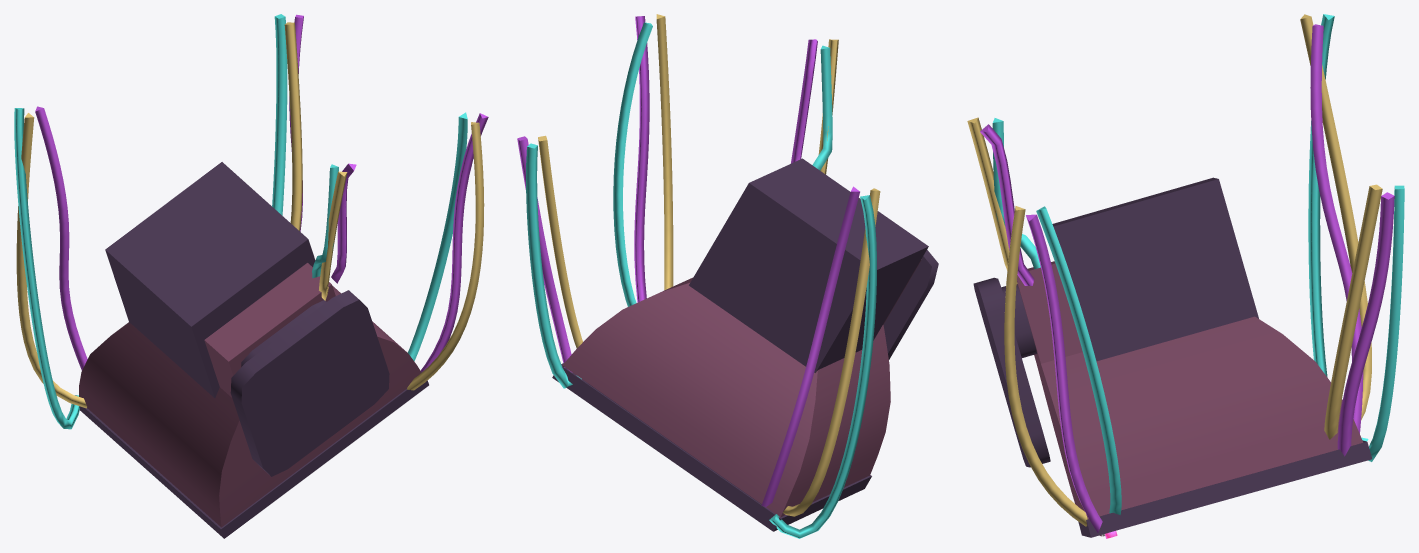
The model's file is Light4.fbx.
3 renders of one model, left to right at view 1: azimuth 30°, elevation 25°; view 2: azimuth 150°, elevation 25°; view 3: azimuth 270°, elevation 25°, orthographic. The views are drawn at different scales.
Visible parts, largest first — view 1: GeoCables.007; view 2: GeoCables.007; view 3: GeoCables.007.
Boxes of the visible parts, x1=… form: GeoCables.007: x1=14, y1=14, x2=488, y2=538; GeoCables.007: x1=517, y1=14, x2=938, y2=538; GeoCables.007: x1=967, y1=14, x2=1404, y2=538.
Size of the model in its own units: 71.97 by 75.14 by 64.52.
